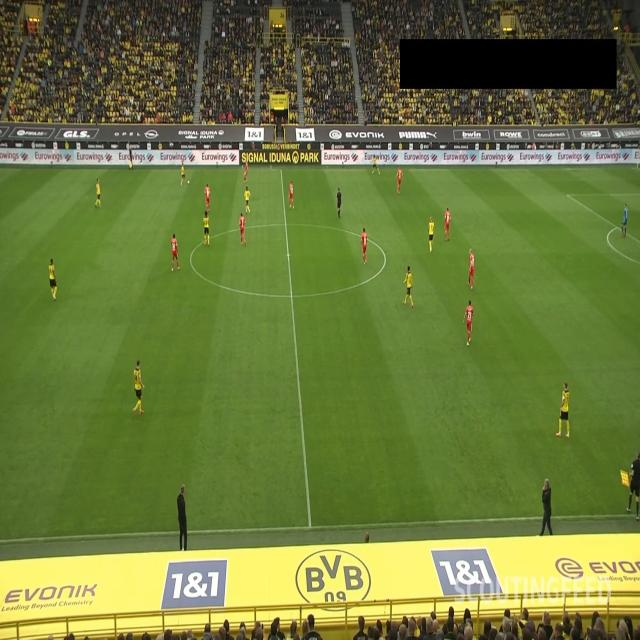ball: (187, 180, 190, 185)
